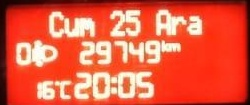0: (117, 71, 136, 98), (92, 71, 109, 99), (14, 39, 32, 65)
1: (35, 79, 41, 100)
2: (71, 70, 90, 99), (77, 40, 94, 64), (109, 9, 124, 36)
4: (129, 40, 144, 62)
5: (124, 8, 141, 36), (136, 70, 153, 98)
6: (41, 80, 52, 100)
7: (113, 39, 128, 63)
9: (144, 39, 161, 63), (95, 39, 111, 64)
X: (155, 8, 171, 35), (48, 9, 64, 36), (187, 14, 202, 34), (171, 14, 185, 35), (64, 16, 78, 37), (78, 16, 92, 36), (59, 78, 72, 99), (110, 74, 116, 96), (161, 39, 169, 51), (170, 42, 179, 52)
